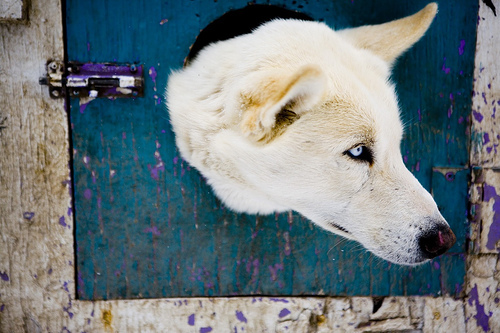dog: (163, 0, 452, 268)
